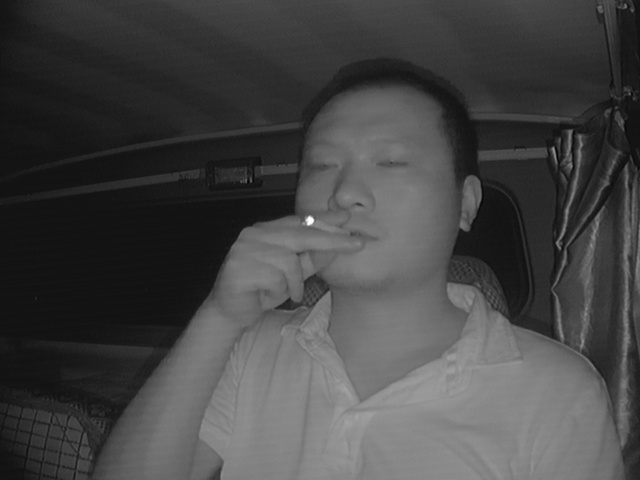hand: (235, 204, 343, 310)
